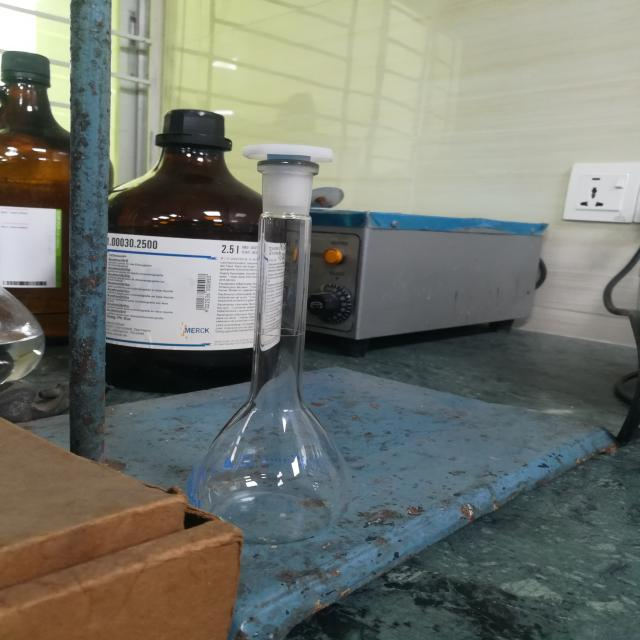Volumetric_Flask: (188, 118, 385, 551)
